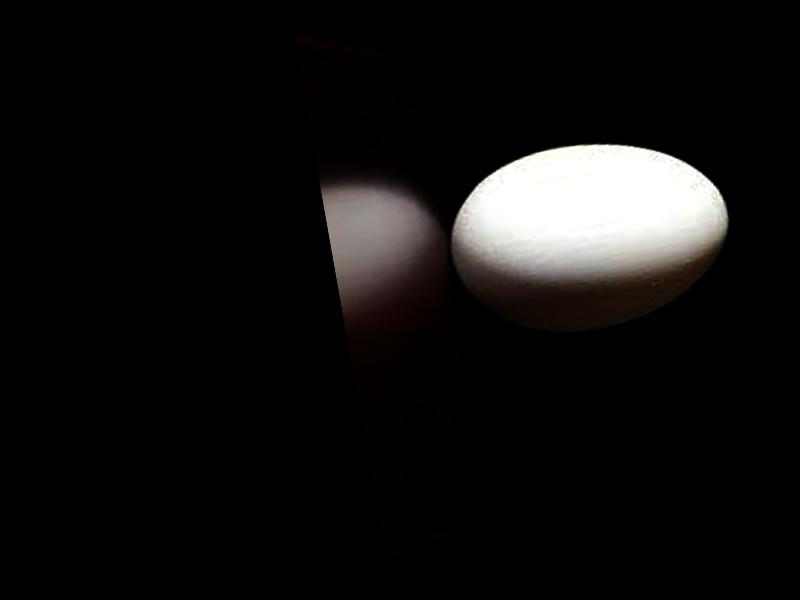Eggs: (435, 120, 743, 350)
